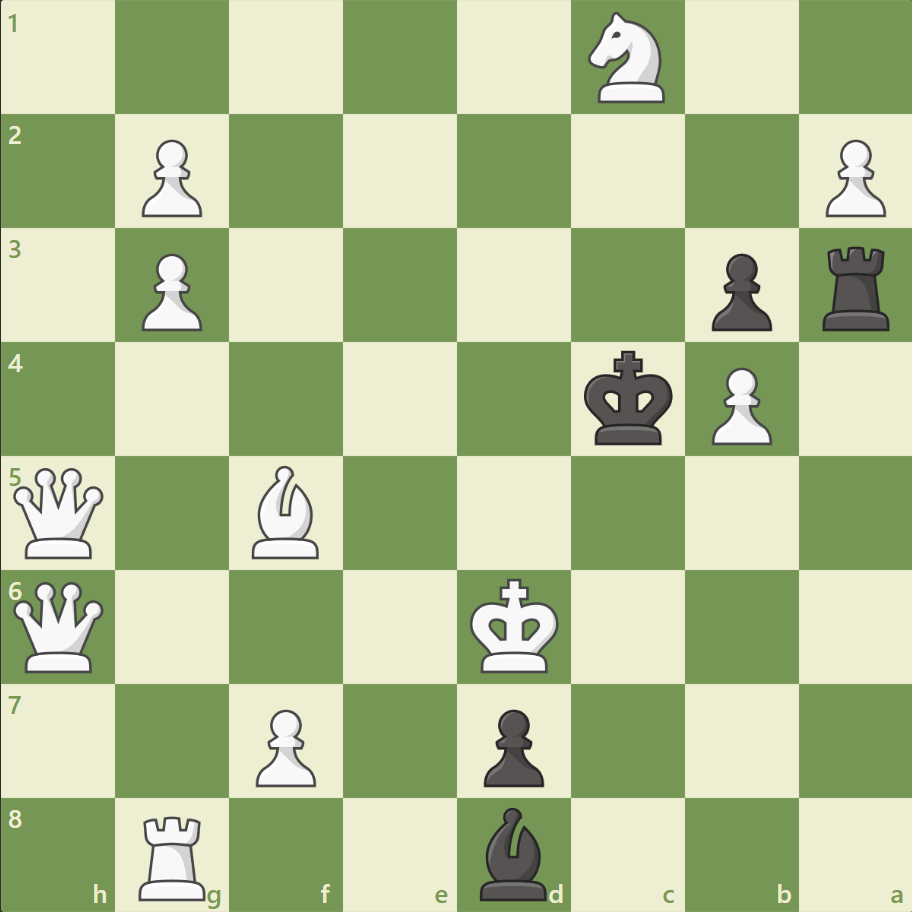B: (244, 460, 328, 563)
K: (465, 571, 565, 679)
N: (579, 7, 676, 110)
P: (247, 700, 322, 791), (701, 359, 776, 450), (133, 246, 208, 337), (133, 132, 208, 223), (815, 132, 889, 223)
Q: (10, 576, 109, 676), (10, 463, 109, 562)
R: (133, 806, 215, 904)
b: (471, 801, 555, 904)
k: (579, 344, 679, 452)
p: (474, 700, 549, 791), (701, 246, 776, 337)
r: (814, 239, 897, 336)
